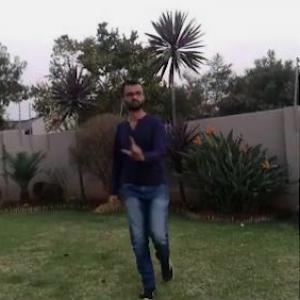land_hand: (116, 129, 146, 164)
